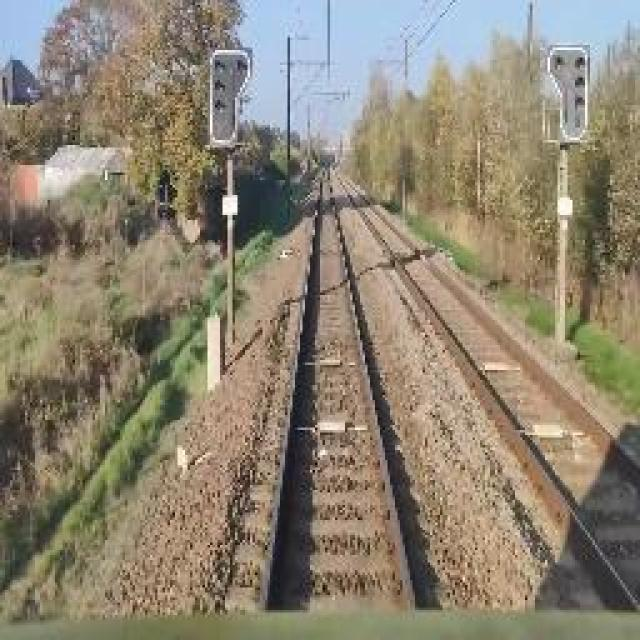rail: (324, 167, 640, 617), (221, 164, 439, 619)
